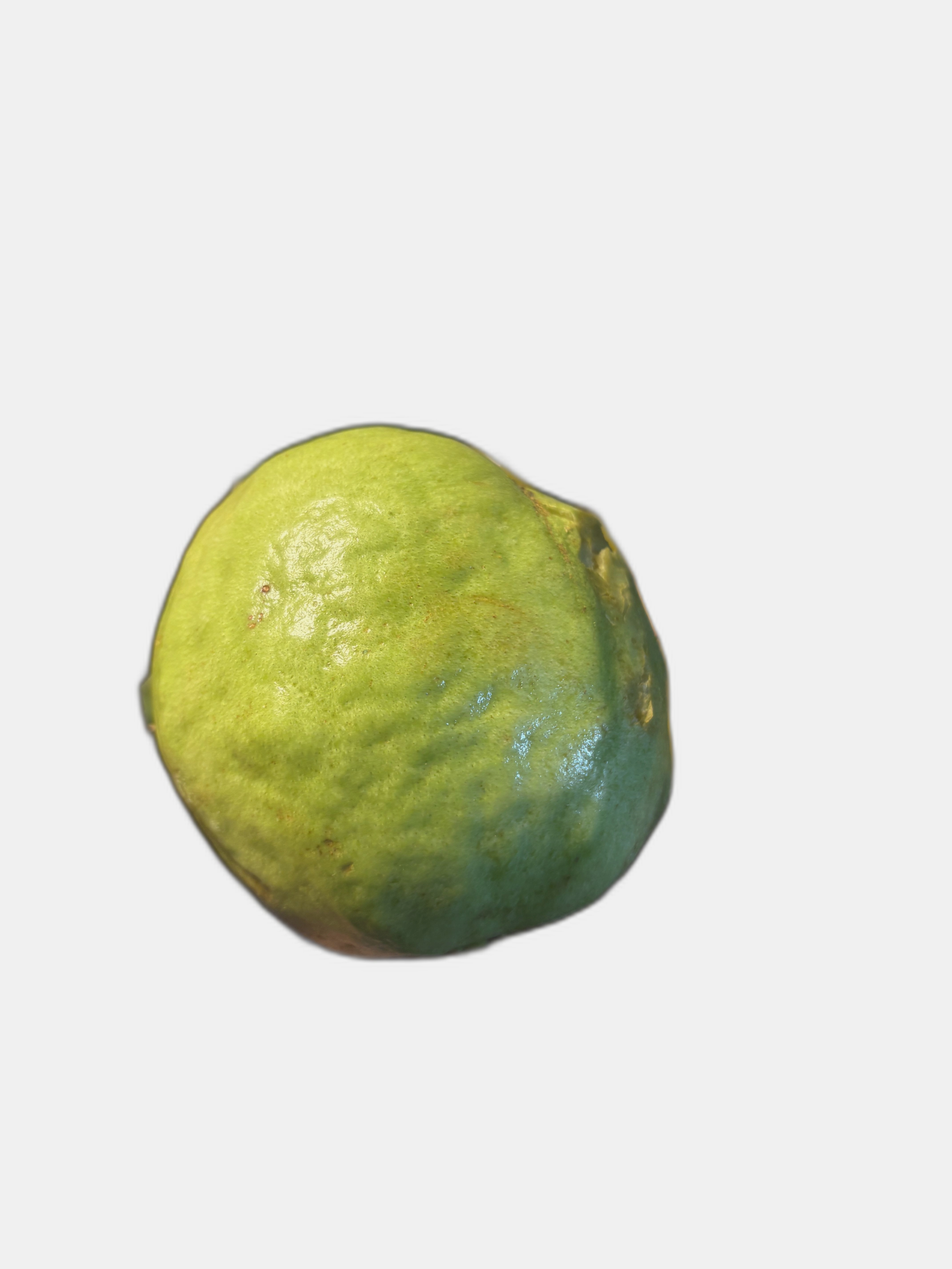guava: (205, 123, 934, 1206)
